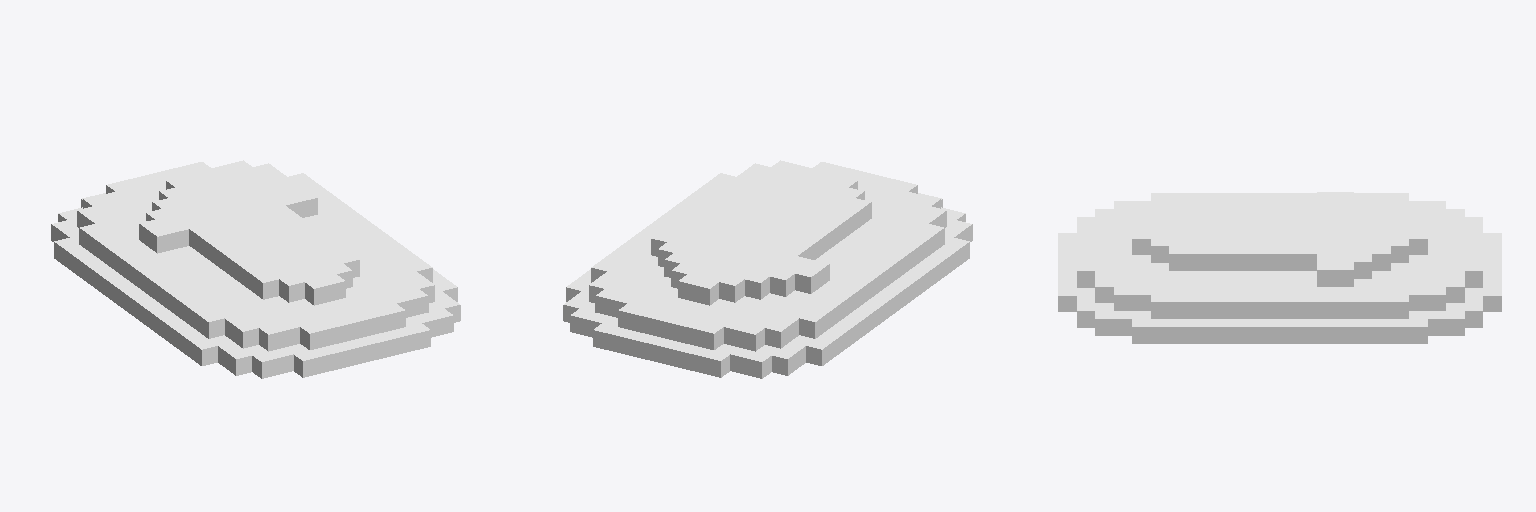
The model's file is stepField.obj.
3 views of the same model, side by side, from view 1: azimuth 30°, elevation 25°; view 2: azimuth 150°, elevation 25°; view 3: azimuth 270°, elevation 25° (orthographic).
Visible parts, largest first — view 1: ObjObject.012; view 2: ObjObject.012; view 3: ObjObject.012.
Boxes of the visible parts, x1,y1,x2,y2 form: ObjObject.012: [51, 160, 460, 378]; ObjObject.012: [563, 160, 972, 378]; ObjObject.012: [1058, 192, 1501, 343].
Size of the model in its own units: 1.6 by 0.3 by 2.4.